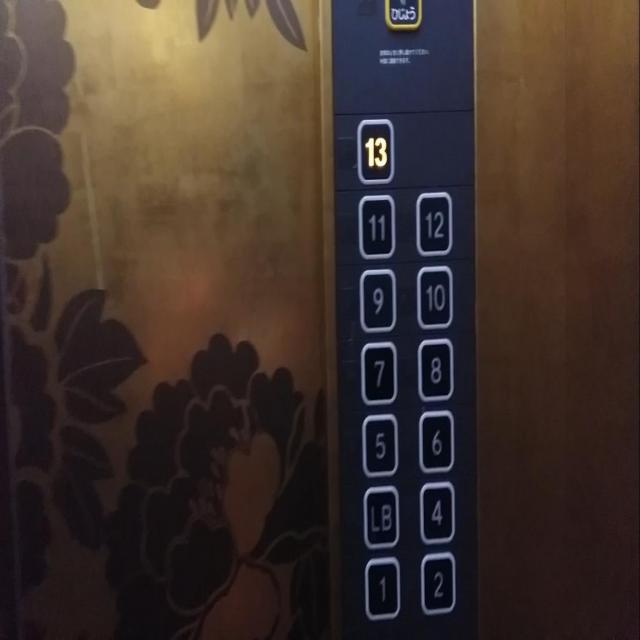1: (364, 555, 400, 623)
10: (416, 264, 454, 330)
11: (356, 193, 396, 260)
12: (414, 189, 453, 258)
13: (356, 115, 394, 187)
2: (419, 549, 457, 618)
4: (418, 479, 456, 546)
5: (361, 410, 398, 479)
6: (416, 406, 454, 474)
7: (359, 338, 398, 406)
8: (416, 337, 455, 404)
9: (358, 267, 396, 334)
LB: (362, 482, 398, 550)
